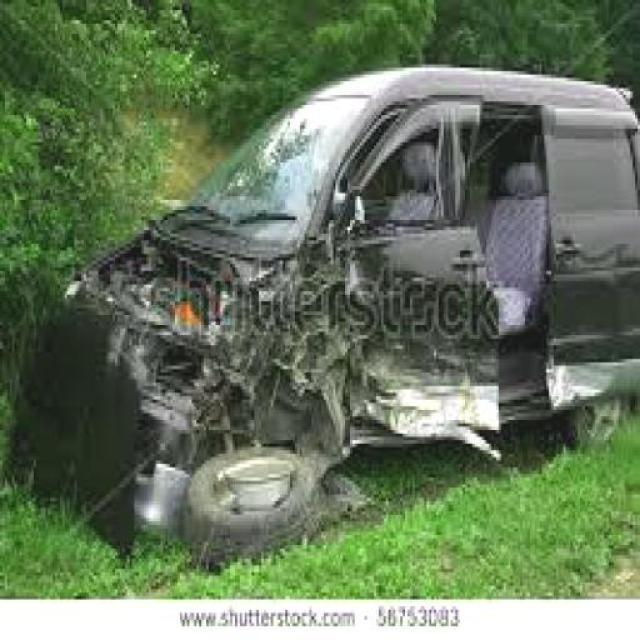car damage: (56, 96, 495, 523)
